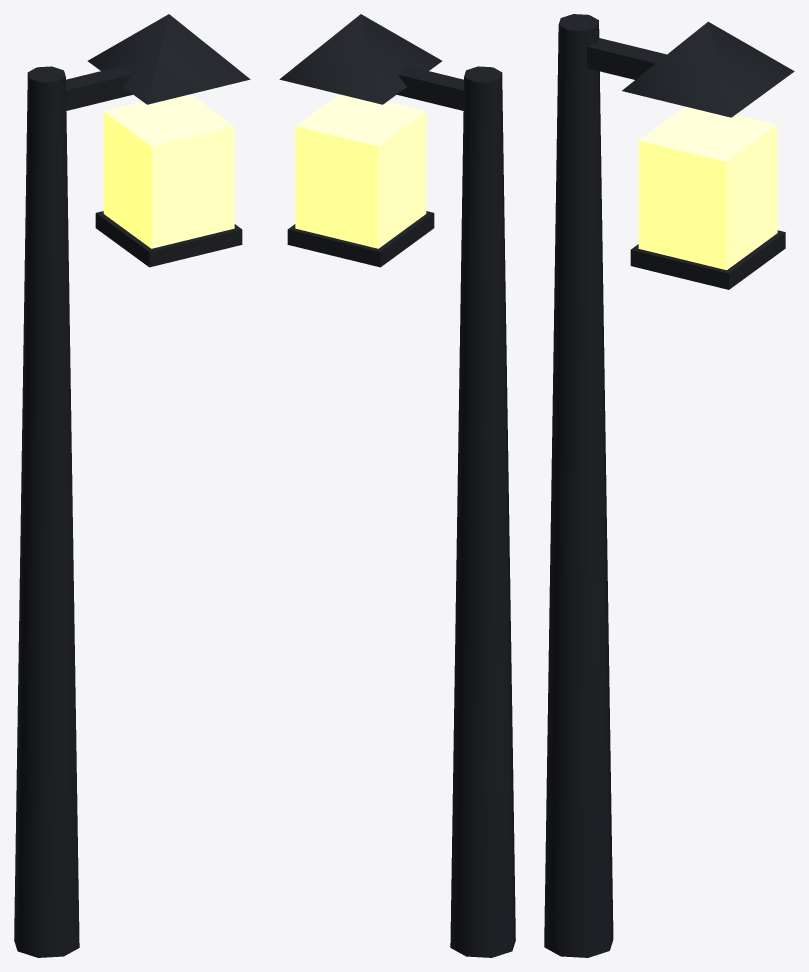
File: poste_lanterna.glb
The picture shows the model from 3 angles, left to right: view 1: azimuth 30°, elevation 25°; view 2: azimuth 150°, elevation 25°; view 3: azimuth 330°, elevation 25°; orthographic projection. The views are drawn at different scales.
Visible parts, largest first — view 1: Prop; view 2: Prop; view 3: Prop.
Boxes of the visible parts, box(x1,y1,x2,y2) form: Prop: box(14, 14, 250, 957); Prop: box(279, 14, 515, 957); Prop: box(544, 14, 794, 957).
Bounding box in the file's own units: 0.8321 × 3.52 × 0.4243.
